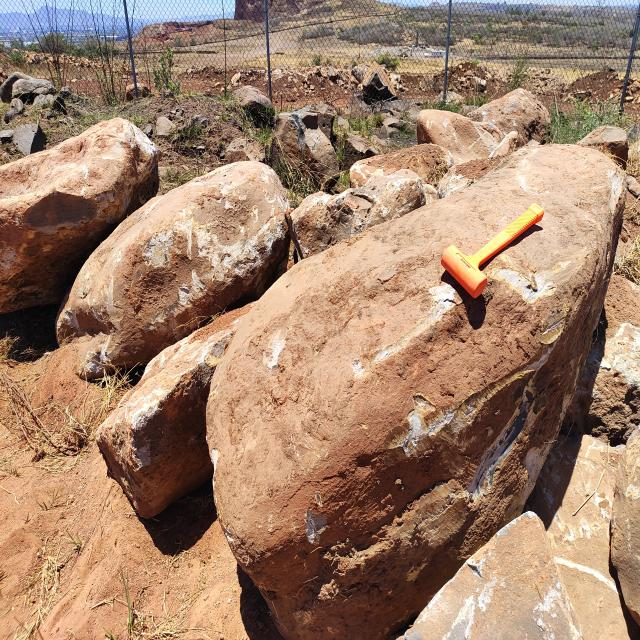Orange_hammer: (440, 201, 544, 299)
